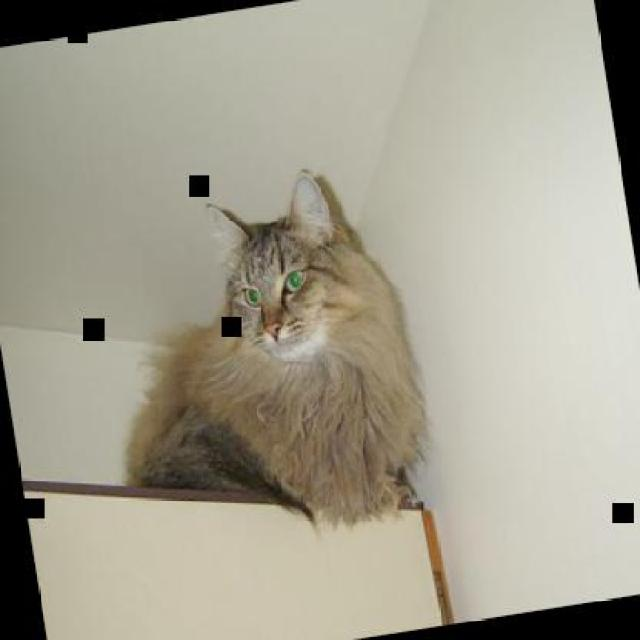cat: (87, 156, 439, 558)
